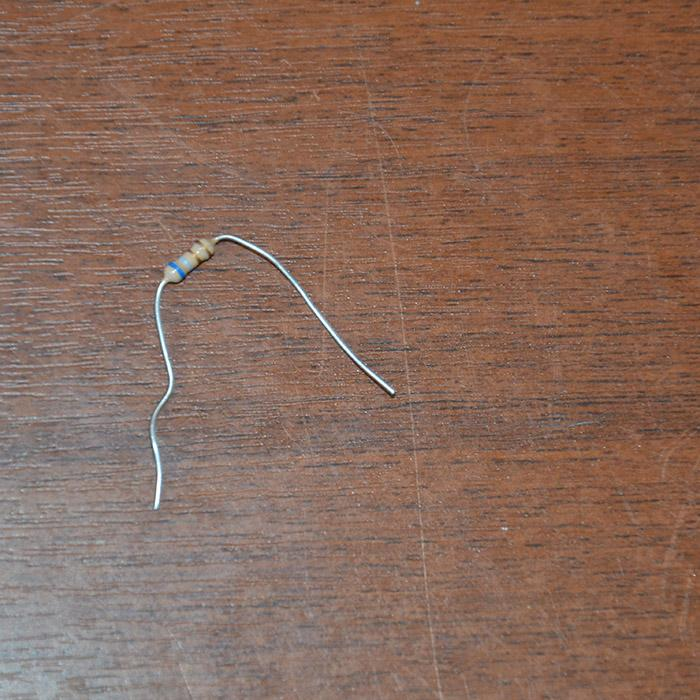resistor: (163, 239, 214, 284)
